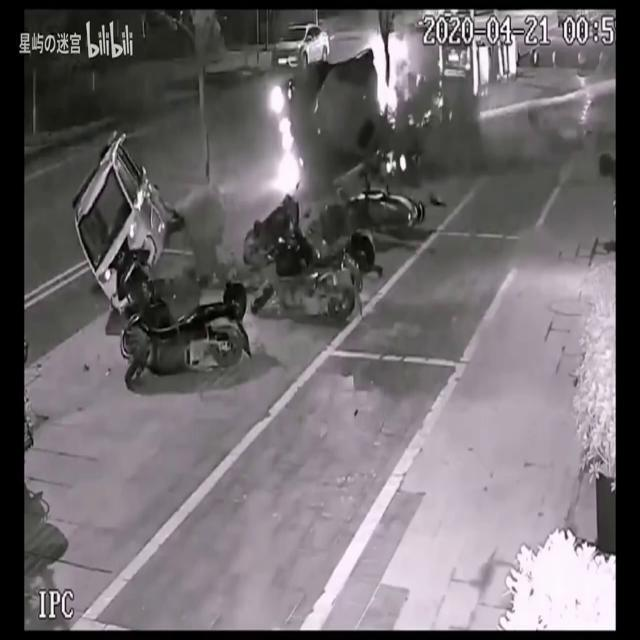accident: (71, 47, 451, 387), (74, 129, 252, 387), (270, 49, 450, 244), (242, 173, 428, 321)
